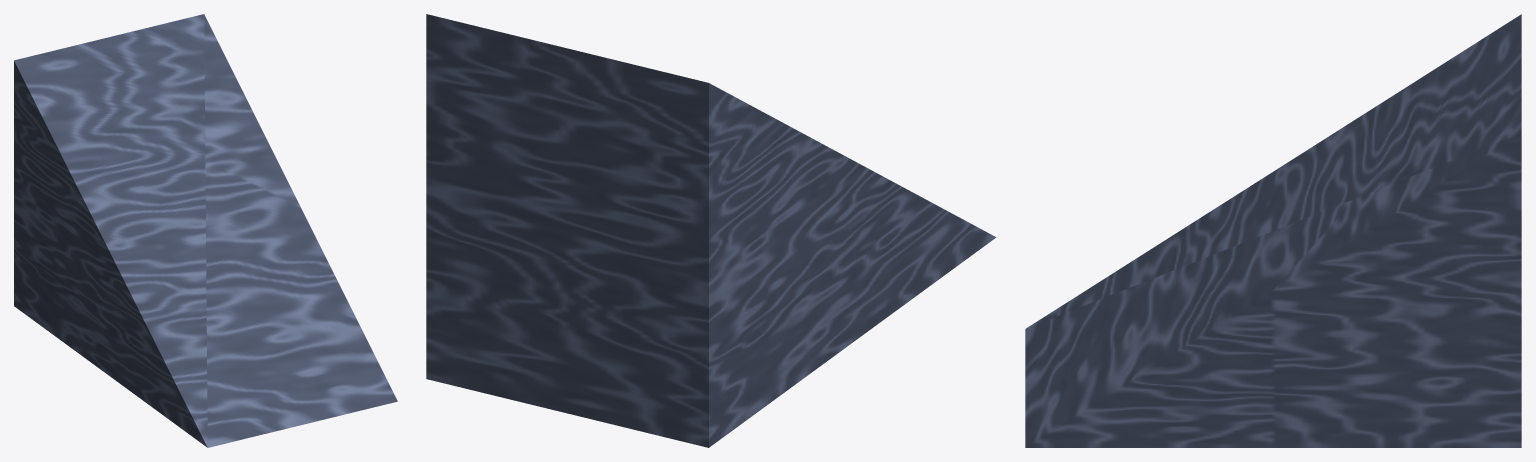
3 renders of one model, left to right at view 1: azimuth 30°, elevation 25°; view 2: azimuth 150°, elevation 25°; view 3: azimuth 270°, elevation 25°, orthographic. The views are drawn at different scales.
Visible parts, largest first — view 1: geometry_0; view 2: geometry_0; view 3: geometry_0.
Part boxes in pixels (x1,y1,x2,y2): geometry_0: (14, 14, 397, 447); geometry_0: (426, 14, 996, 447); geometry_0: (1025, 14, 1521, 447).
Size of the model in its own units: 1.26 by 1.55 by 2.22.
1 material, 1 textured.
